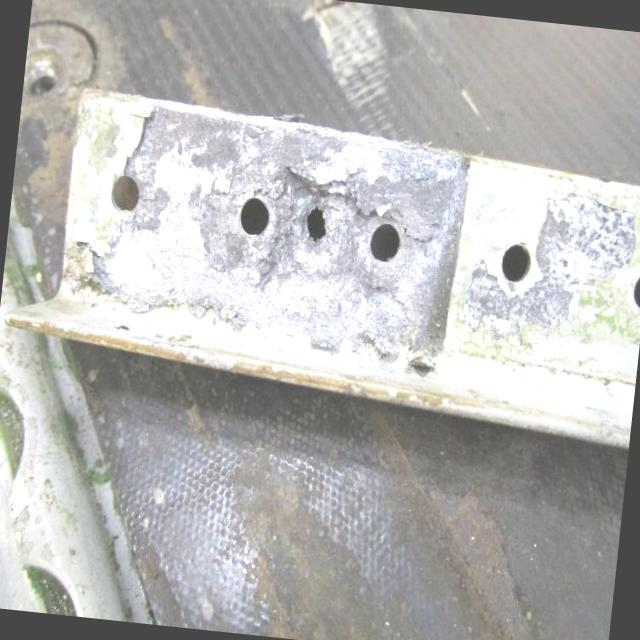Missing Fastener: (21, 26, 81, 111), (353, 200, 421, 273), (223, 174, 283, 250), (486, 224, 540, 298), (99, 162, 150, 224), (625, 258, 640, 327)
